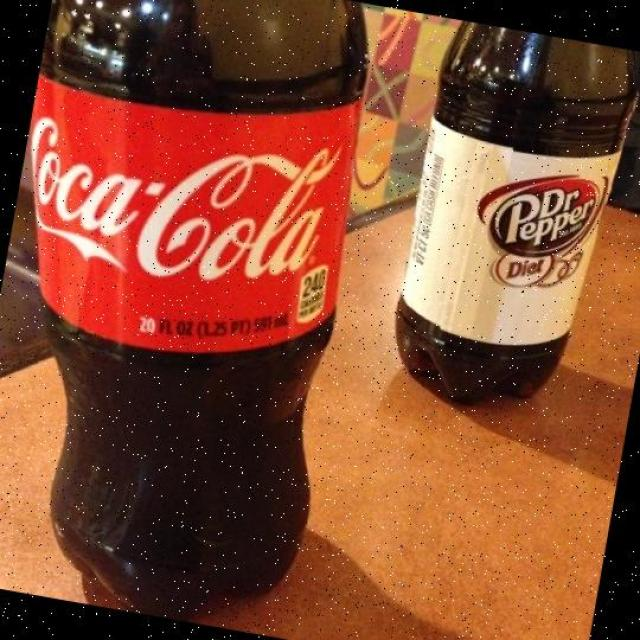coca-cola: (0, 0, 421, 634)
